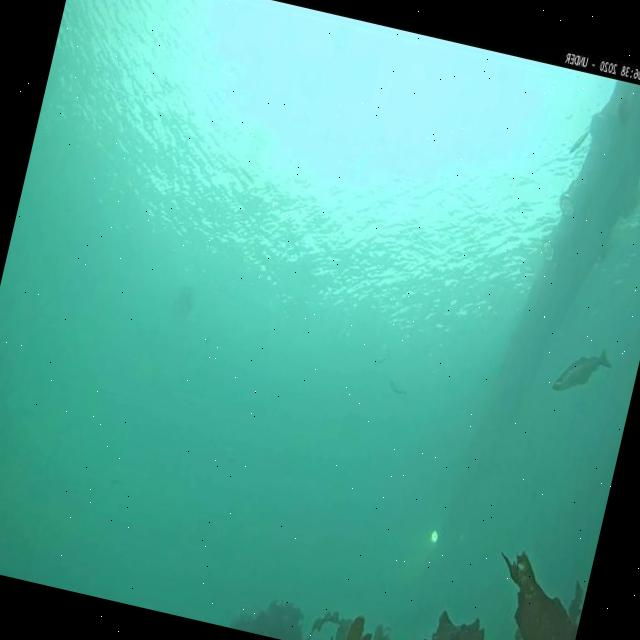fish: (550, 342, 614, 404), (568, 128, 590, 158), (385, 378, 407, 399), (371, 349, 391, 372)
